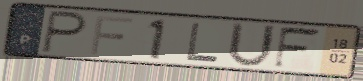1: (144, 18, 168, 62)
F: (271, 25, 325, 71), (87, 14, 136, 57)
L: (184, 21, 222, 64)
P: (39, 8, 90, 56)
U: (225, 20, 279, 70)
